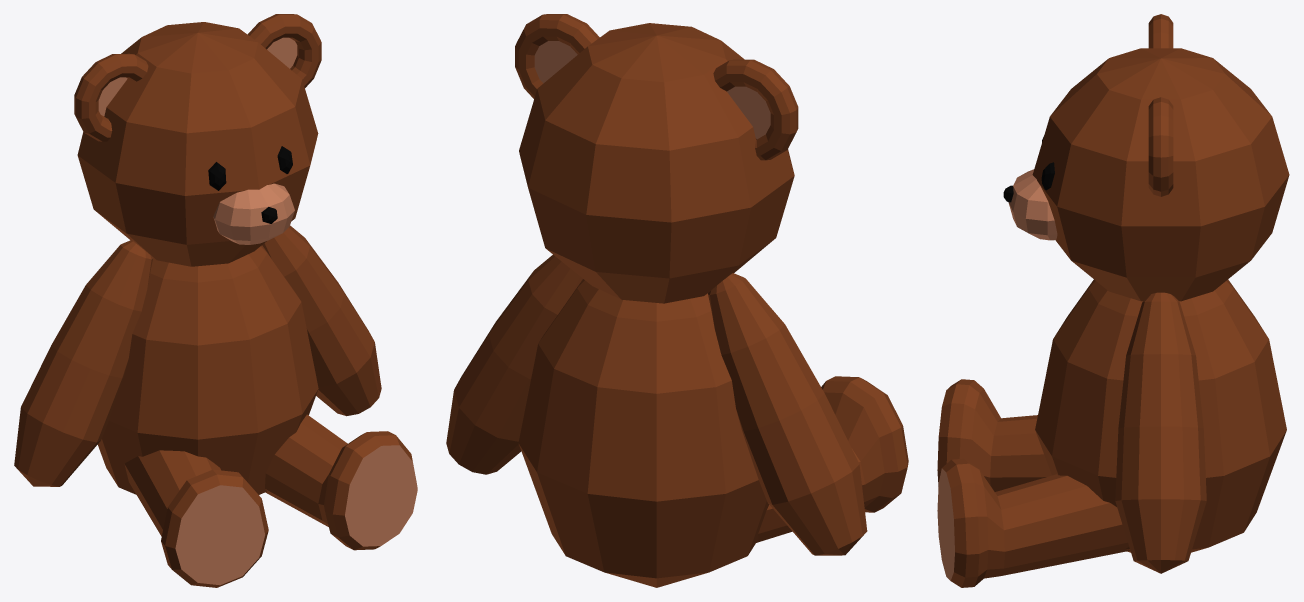
Rendered from Orsachiotto.fbx.
The picture shows the model from 3 angles, left to right: view 1: azimuth 30°, elevation 25°; view 2: azimuth 150°, elevation 25°; view 3: azimuth 270°, elevation 25°; orthographic projection. The views are drawn at different scales.
Visible parts, largest first — view 1: Torus.011; view 2: Torus.011; view 3: Torus.011.
Part boxes in pixels (x1,y1,x2,y2): Torus.011: (14,14,417,587); Torus.011: (446,14,908,587); Torus.011: (937,14,1289,587).
Size of the model in its own units: 47.96 by 61.42 by 38.94.
